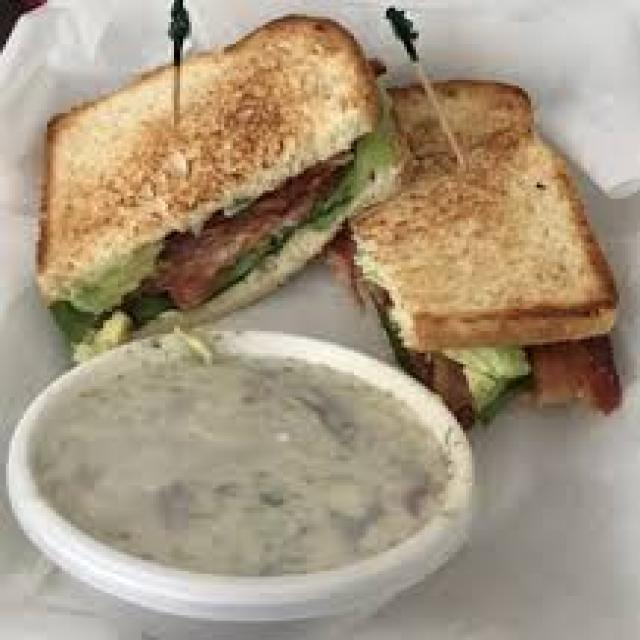Sandwich: (18, 14, 637, 428)
